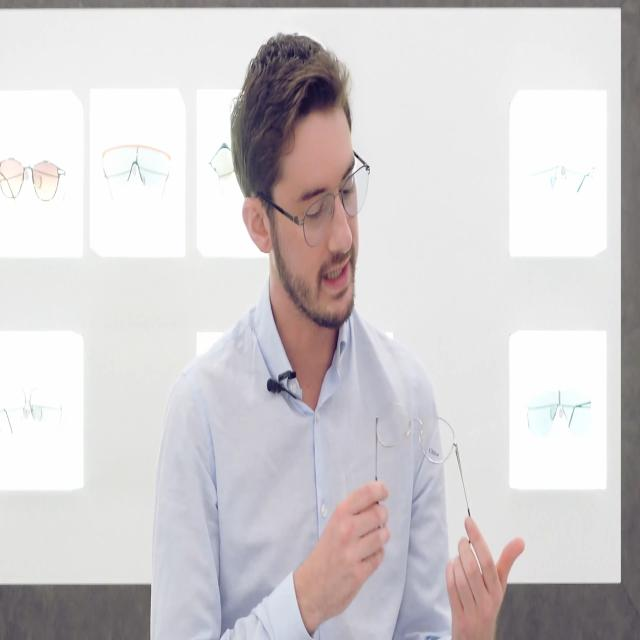dress: (149, 265, 453, 640)
glasses: (301, 161, 370, 249), (376, 403, 456, 465), (102, 141, 169, 191), (2, 158, 59, 203)
